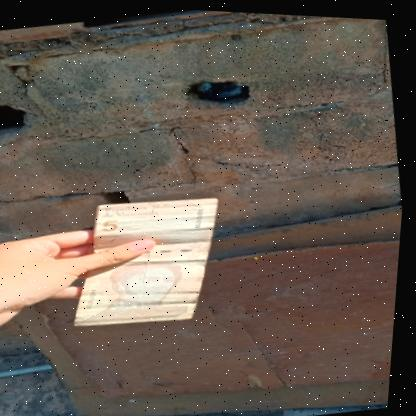five-front-vef: (59, 183, 240, 337)
